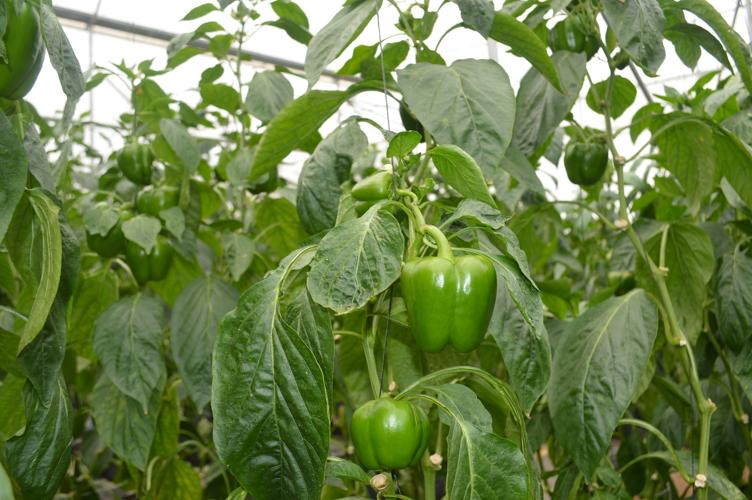BellPepper: (399, 245, 497, 354), (346, 389, 444, 471), (341, 166, 418, 223), (552, 132, 620, 193), (117, 234, 178, 296), (116, 135, 170, 182), (83, 198, 128, 251), (134, 181, 182, 213)
